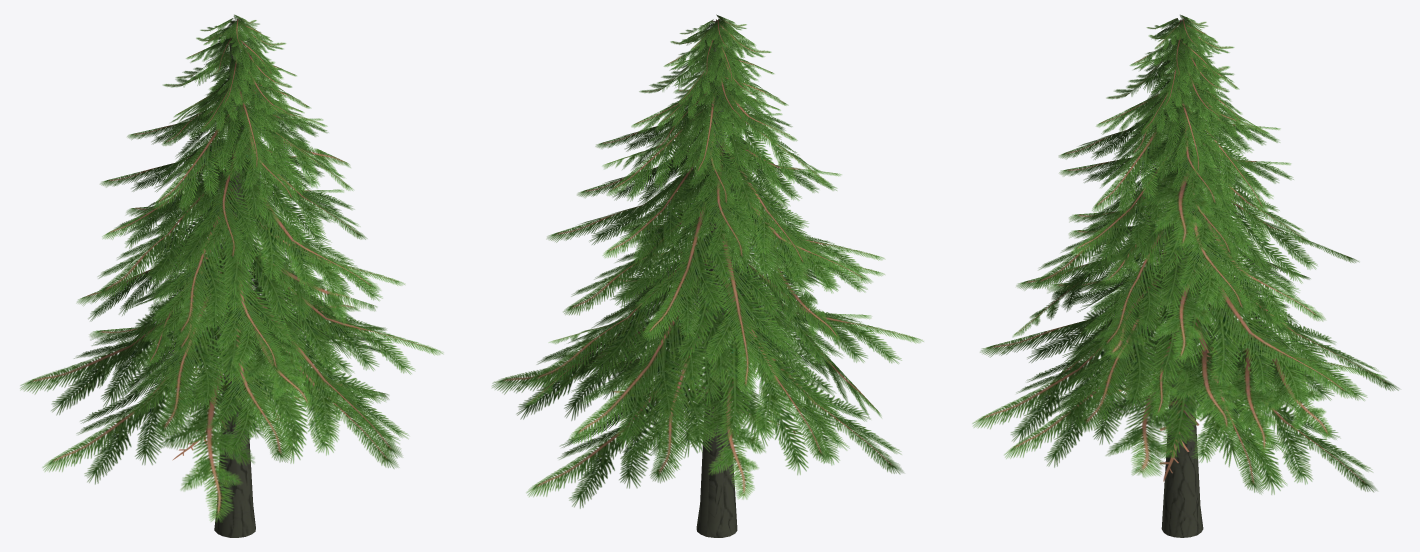
File: abete.glb
3 renders of one model, left to right at view 1: azimuth 30°, elevation 25°; view 2: azimuth 150°, elevation 25°; view 3: azimuth 270°, elevation 25°, orthographic.
Parts seen in each view (by area): view 1: Branches, Trunk; view 2: Branches, Trunk; view 3: Branches, Trunk.
Part boxes in pixels (<box>): Branches: <box>20,14,443,522</box>; Trunk: <box>214,19,255,537</box>; Branches: <box>492,14,923,508</box>; Trunk: <box>696,44,737,537</box>; Branches: <box>972,14,1399,494</box>; Trunk: <box>1161,19,1203,537</box>.
Bounding box in the file's own units: 58.79 × 74.5 × 57.75.
2 materials, 2 textured.
